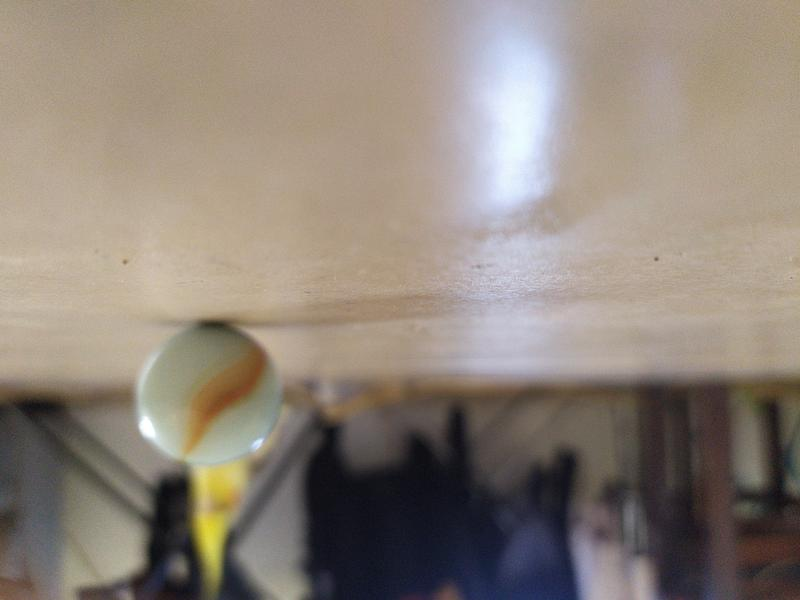Warning: (130, 319, 287, 468)
